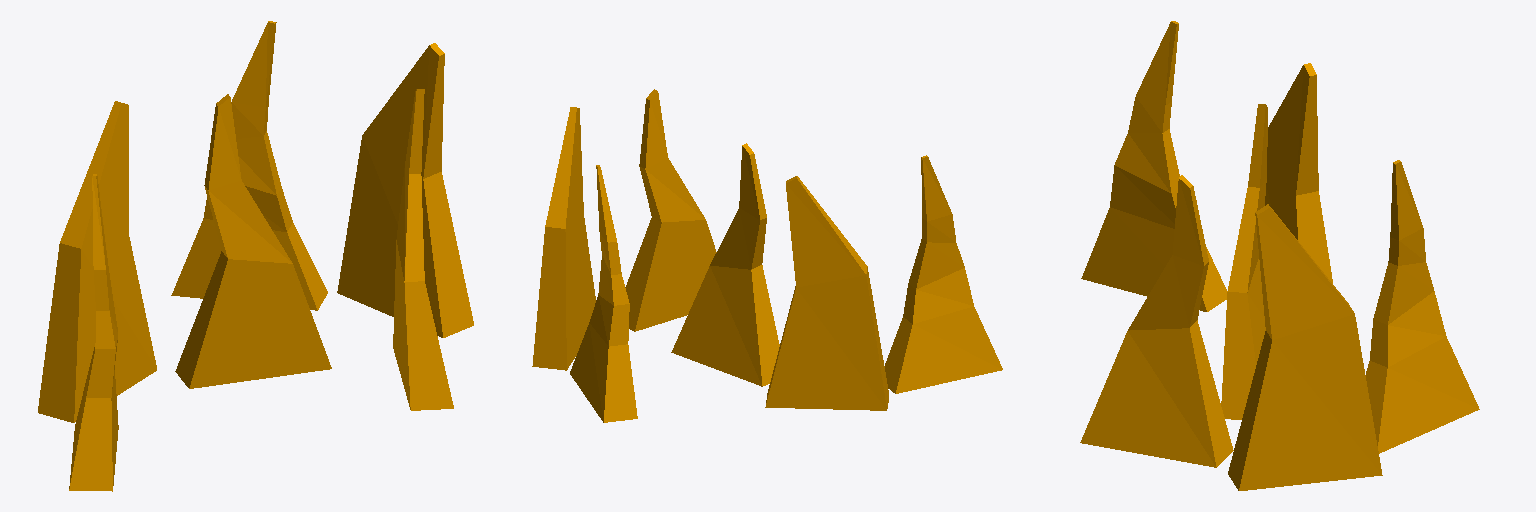
robot.urdf — bush:
<?xml version="1.0" ?>
<robot name="bush">
  <link name="baseLink">

    <visual>
      <origin rpy="0 0 0" xyz="0 0 0.0"/> 
      <geometry>
        <mesh filename="bush.obj" scale="1 1 1"/>
      </geometry>
    </visual>
    
    <collision>
      <origin rpy="0 0 0" xyz="0 0 0.0"/> 
      <geometry>
        <mesh filename="bush.obj" scale="1 1 1"/>
        
        </geometry>
    </collision>

    <inertial>
      <mass value="0.0"/> <origin rpy="0 0 0" xyz="0 0 0.0"/>
      <inertia ixx="0" ixy="0" ixz="0" iyy="0" iyz="0" izz="0"/>
    </inertial>
    
  </link>
</robot>

--- What the picture shows (computed from the rendered views, not written in the file) ---
The picture shows the robot from 3 angles, left to right: view 1: azimuth 30°, elevation 25°; view 2: azimuth 150°, elevation 25°; view 3: azimuth 270°, elevation 25°; orthographic projection.
Model bush with 1 links and 0 joints (none), rooted at baseLink, posed every joint at zero.
Visible links, largest first — view 1: baseLink; view 2: baseLink; view 3: baseLink.
Link boxes in pixels (box(x1,y1,x2,y2)): baseLink: box(38, 21, 473, 491); baseLink: box(532, 89, 1002, 422); baseLink: box(1080, 21, 1479, 490).
Size in the robot's own frame: 2.38 by 1.77 by 1.34 metres.
Meshes: 1 distinct files referenced, 1 mesh visuals loaded (1 OBJ).
